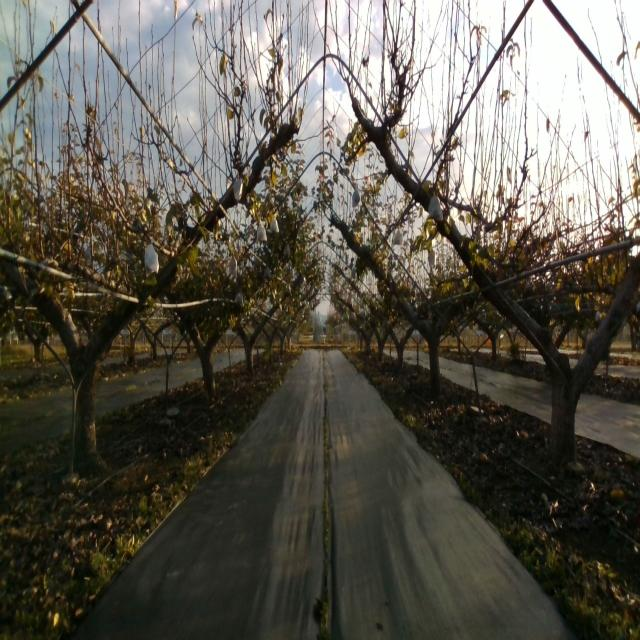pearbags: (144, 235, 160, 278), (426, 190, 443, 222), (233, 172, 243, 202), (256, 221, 268, 242)
